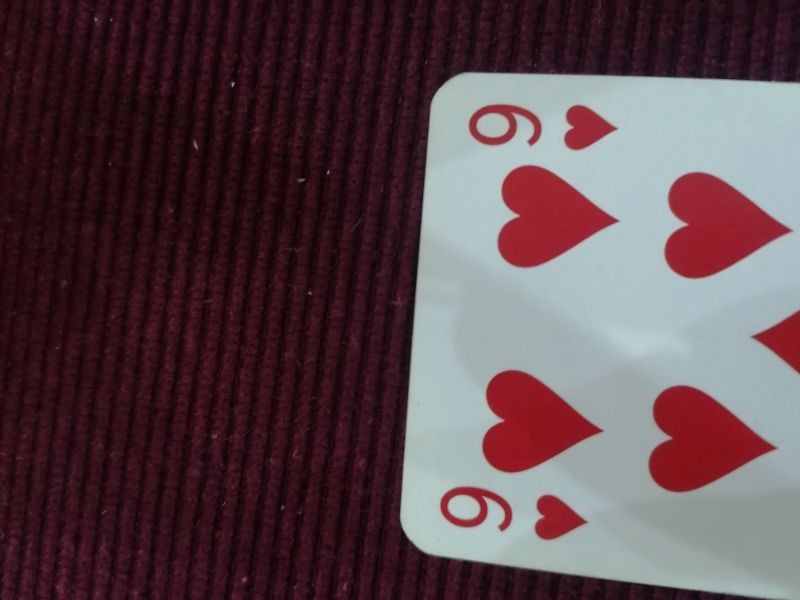9h: (430, 476, 593, 545), (466, 98, 622, 155)
